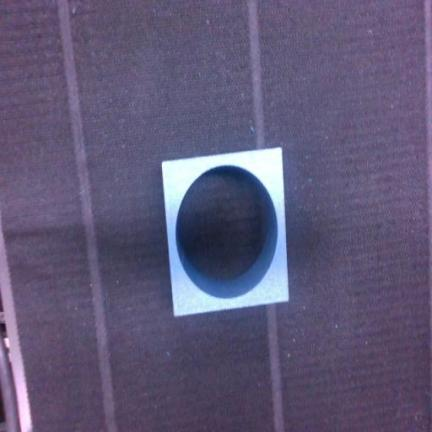square: (162, 148, 288, 315)
